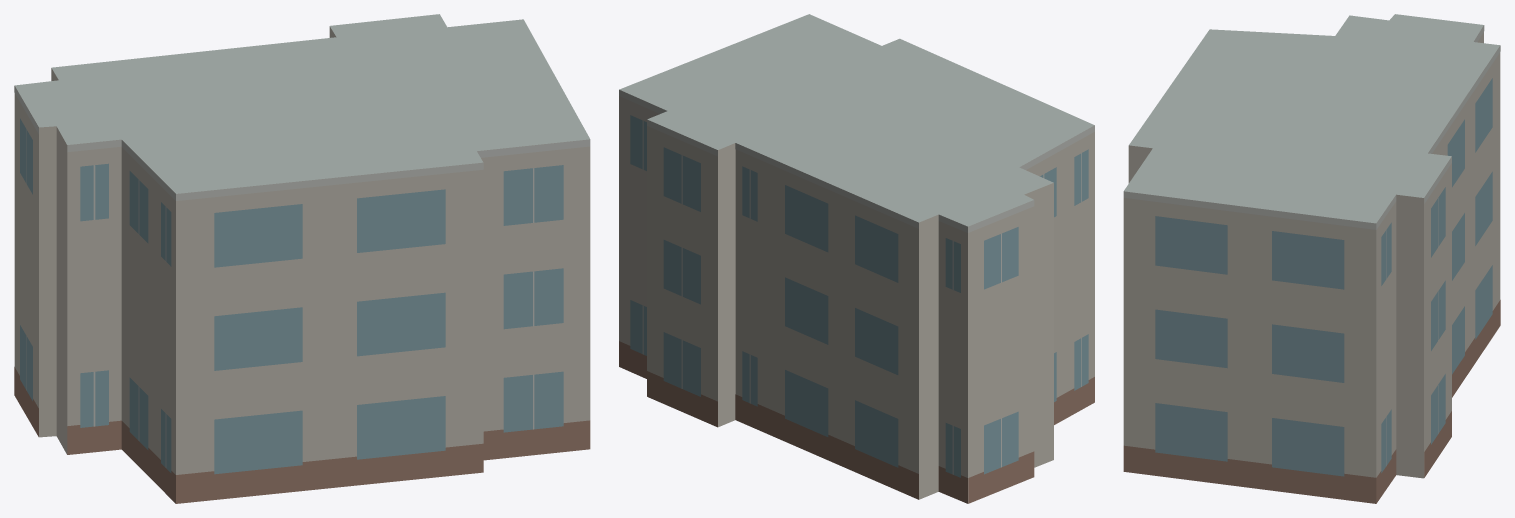
File: survey-upis-32503432.glb
The picture shows the model from 3 angles, left to right: view 1: azimuth 30°, elevation 25°; view 2: azimuth 150°, elevation 25°; view 3: azimuth 270°, elevation 25°; orthographic projection. The views are drawn at different scales.
Visible parts, largest first — view 1: survey-upis-32503432.tmp; view 2: survey-upis-32503432.tmp; view 3: survey-upis-32503432.tmp.
Part boxes in pixels (left/top/right/bottom): survey-upis-32503432.tmp: left=14, top=14, right=590, bottom=503; survey-upis-32503432.tmp: left=619, top=14, right=1094, bottom=503; survey-upis-32503432.tmp: left=1123, top=14, right=1500, bottom=503.
Bounding box in the file's own units: 16.99 × 10.6 × 12.92.
